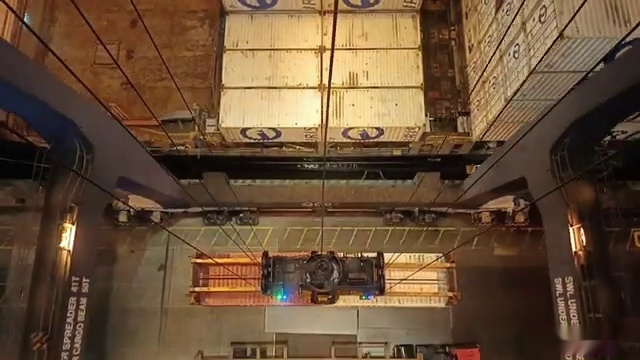container: (181, 247, 473, 317), (218, 87, 426, 142), (222, 10, 423, 52), (216, 48, 424, 88), (208, 1, 436, 30), (209, 0, 433, 26), (214, 0, 432, 11), (216, 0, 432, 2)
guide_mark: (100, 229, 541, 249), (81, 346, 556, 360)
spreader: (181, 249, 464, 309)
target_slot: (167, 332, 466, 360)
